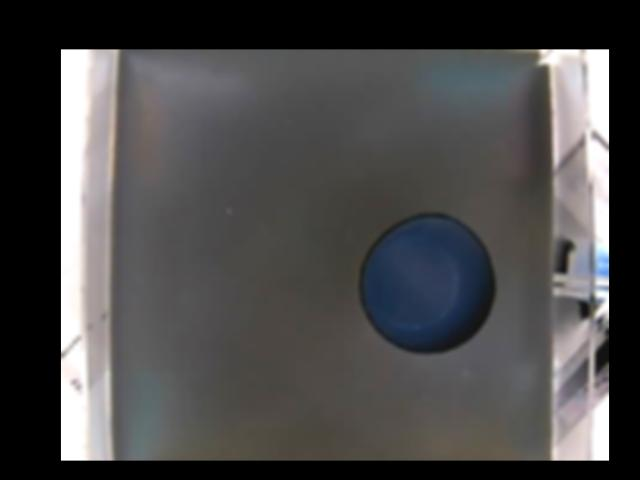Cup: (358, 213, 497, 357)
